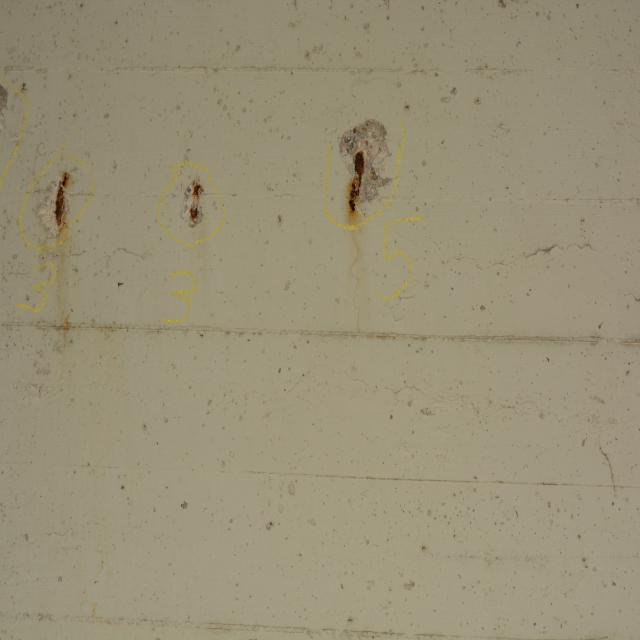Rebar: (338, 118, 393, 212), (36, 171, 71, 236), (180, 178, 205, 228)
horizontal crack: (384, 222, 604, 272), (0, 244, 151, 285), (280, 360, 425, 400), (10, 522, 104, 546), (609, 287, 640, 305)
vertical crack: (597, 414, 617, 492), (348, 229, 362, 336)
